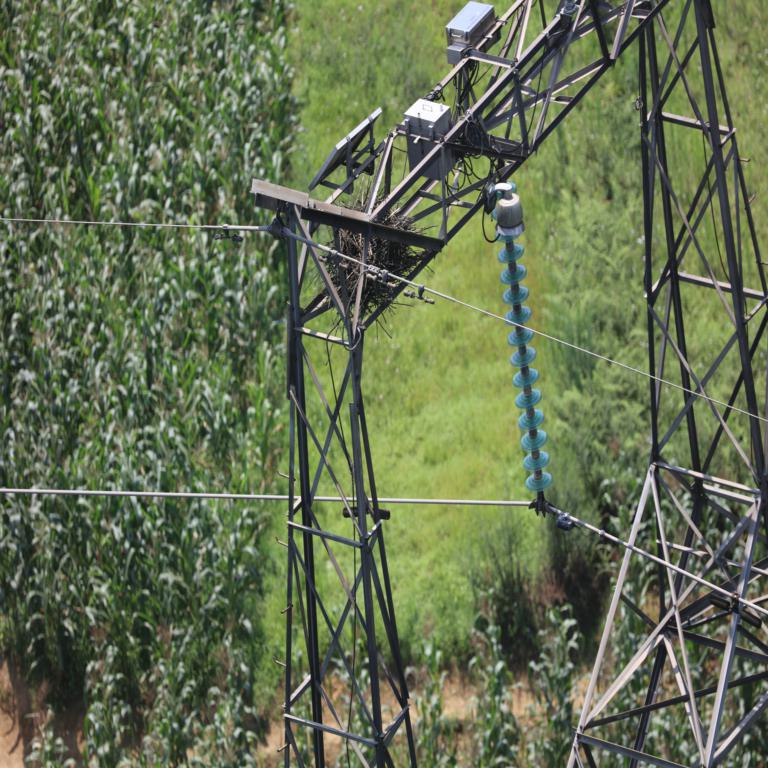nest: (331, 207, 412, 304)
